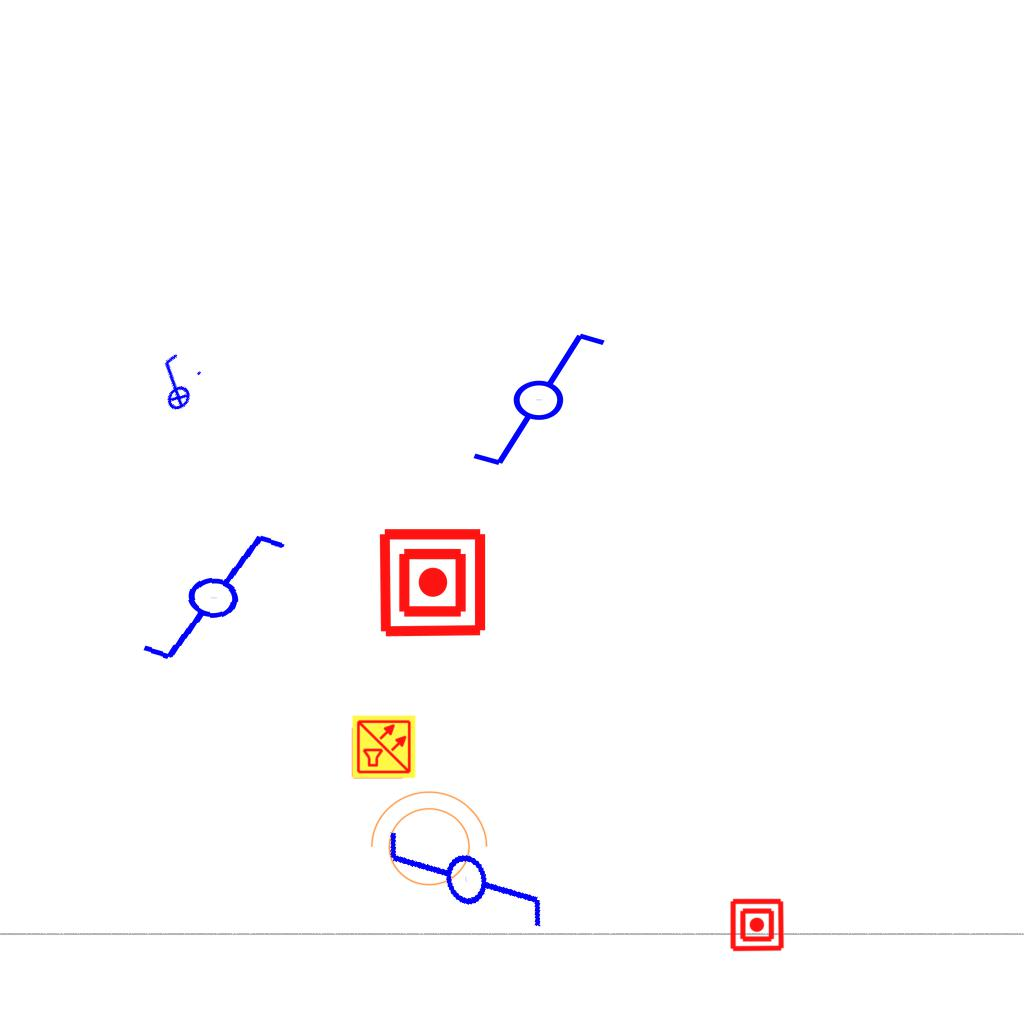Ausschalter_beleuchtet: (137, 346, 211, 420)
NAM-Nichtautomatischer_Melder: (376, 526, 489, 639), (728, 896, 786, 954)
OKW_Multisensormelder_(Kombination_optischer_Rauch-Kahlenmonoxid_Waerme-Melder): (351, 714, 417, 780)
Scheinwerfer_fuer_Alarmbeleuchtung: (360, 786, 492, 898)
Wechselschalter: (375, 792, 558, 984), (121, 516, 290, 674), (452, 326, 609, 470)
